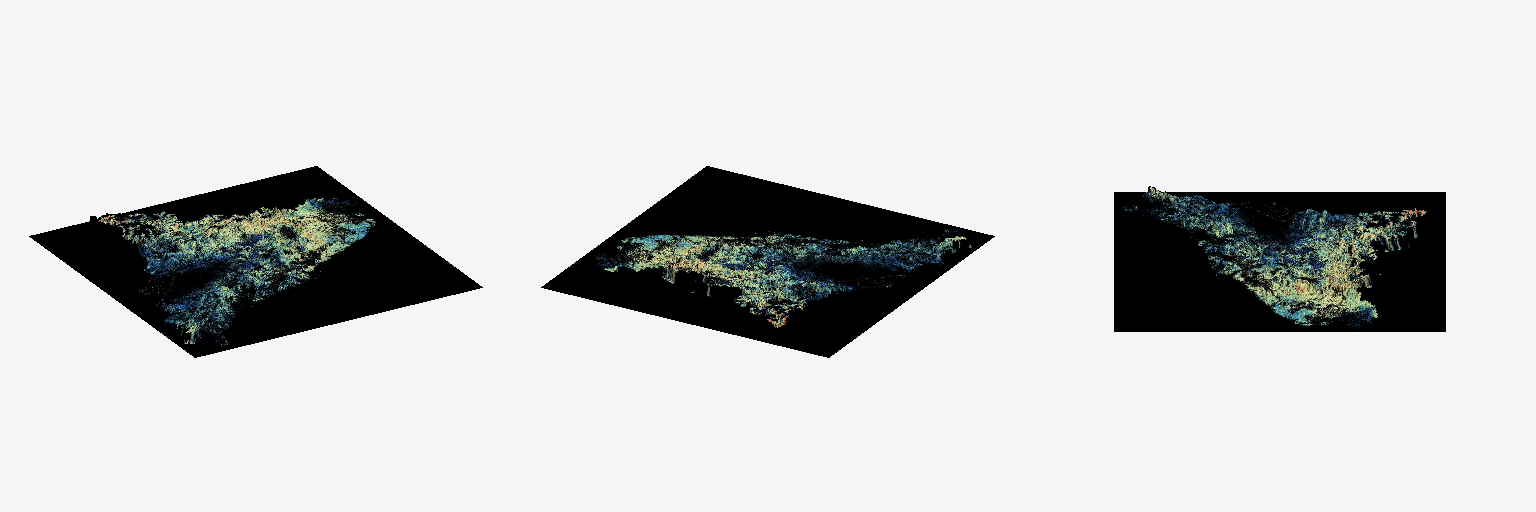
3 renders of one model, left to right at view 1: azimuth 30°, elevation 25°; view 2: azimuth 150°, elevation 25°; view 3: azimuth 270°, elevation 25°, orthographic.
Visible parts, largest first — view 1: Plane; view 2: Plane; view 3: Plane.
Part boxes in pixels (x1,y1,x2,y2): Plane: (29,166,482,357); Plane: (541,166,994,357); Plane: (1114,186,1445,331).
Size of the model in its own units: 21.07 by 0.8409 by 21.07.
Materials: 1 (1 with a texture image).